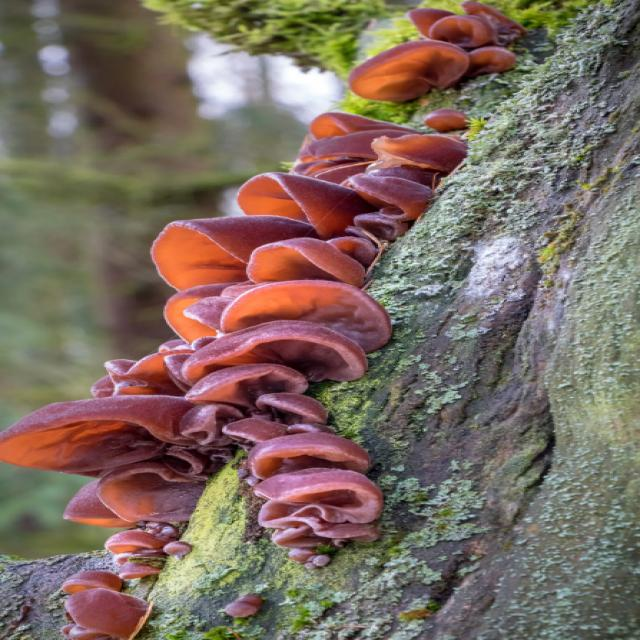Fase Muda: (27, 0, 531, 640)
